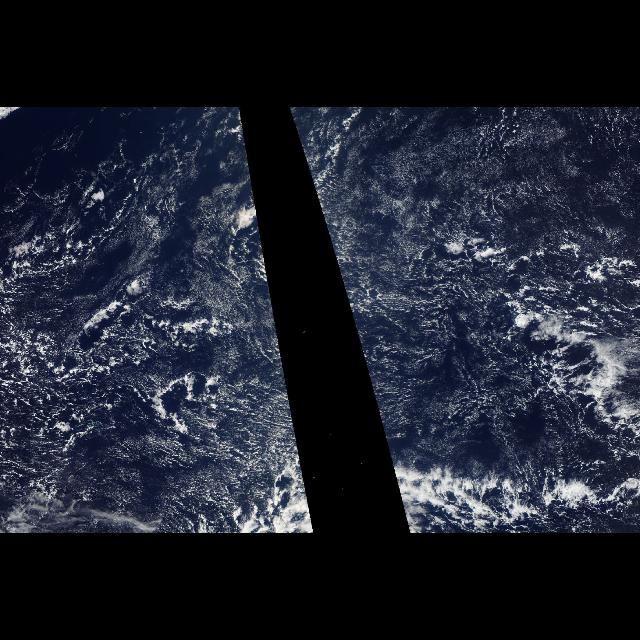Fish: (388, 452, 628, 534), (162, 452, 314, 534)
Gravel: (406, 215, 630, 460), (0, 282, 232, 470)
Sugar: (296, 116, 610, 436), (92, 134, 298, 436)
